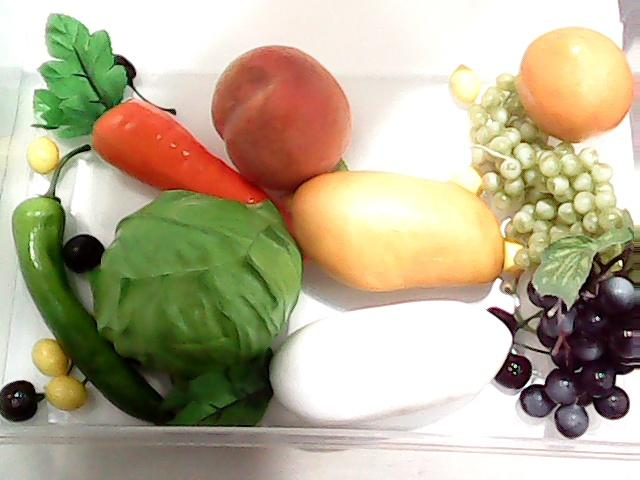cabbage: (71, 182, 316, 386)
carrot: (31, 14, 299, 250)
grape: (471, 66, 634, 274), (516, 231, 640, 441)
lemon: (514, 13, 640, 135)
mango: (284, 168, 506, 292)
peach: (211, 42, 353, 190)
pepper: (8, 172, 188, 422)
radish: (164, 300, 516, 450)
